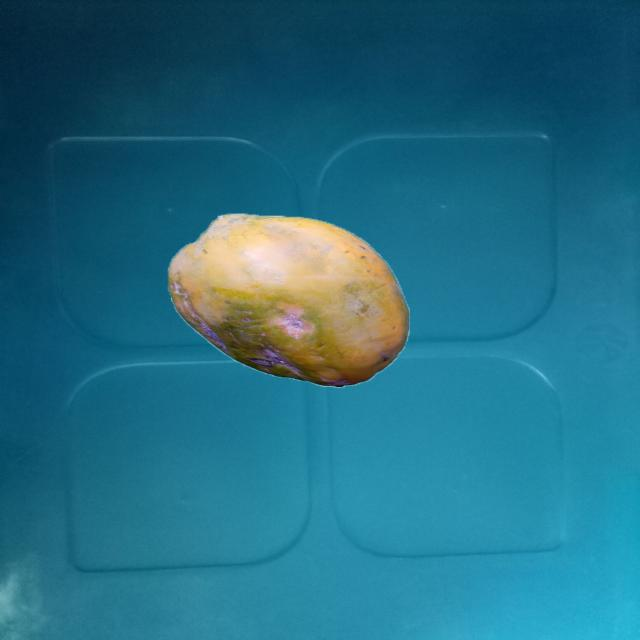Pepaya rippen: (164, 206, 412, 395)
